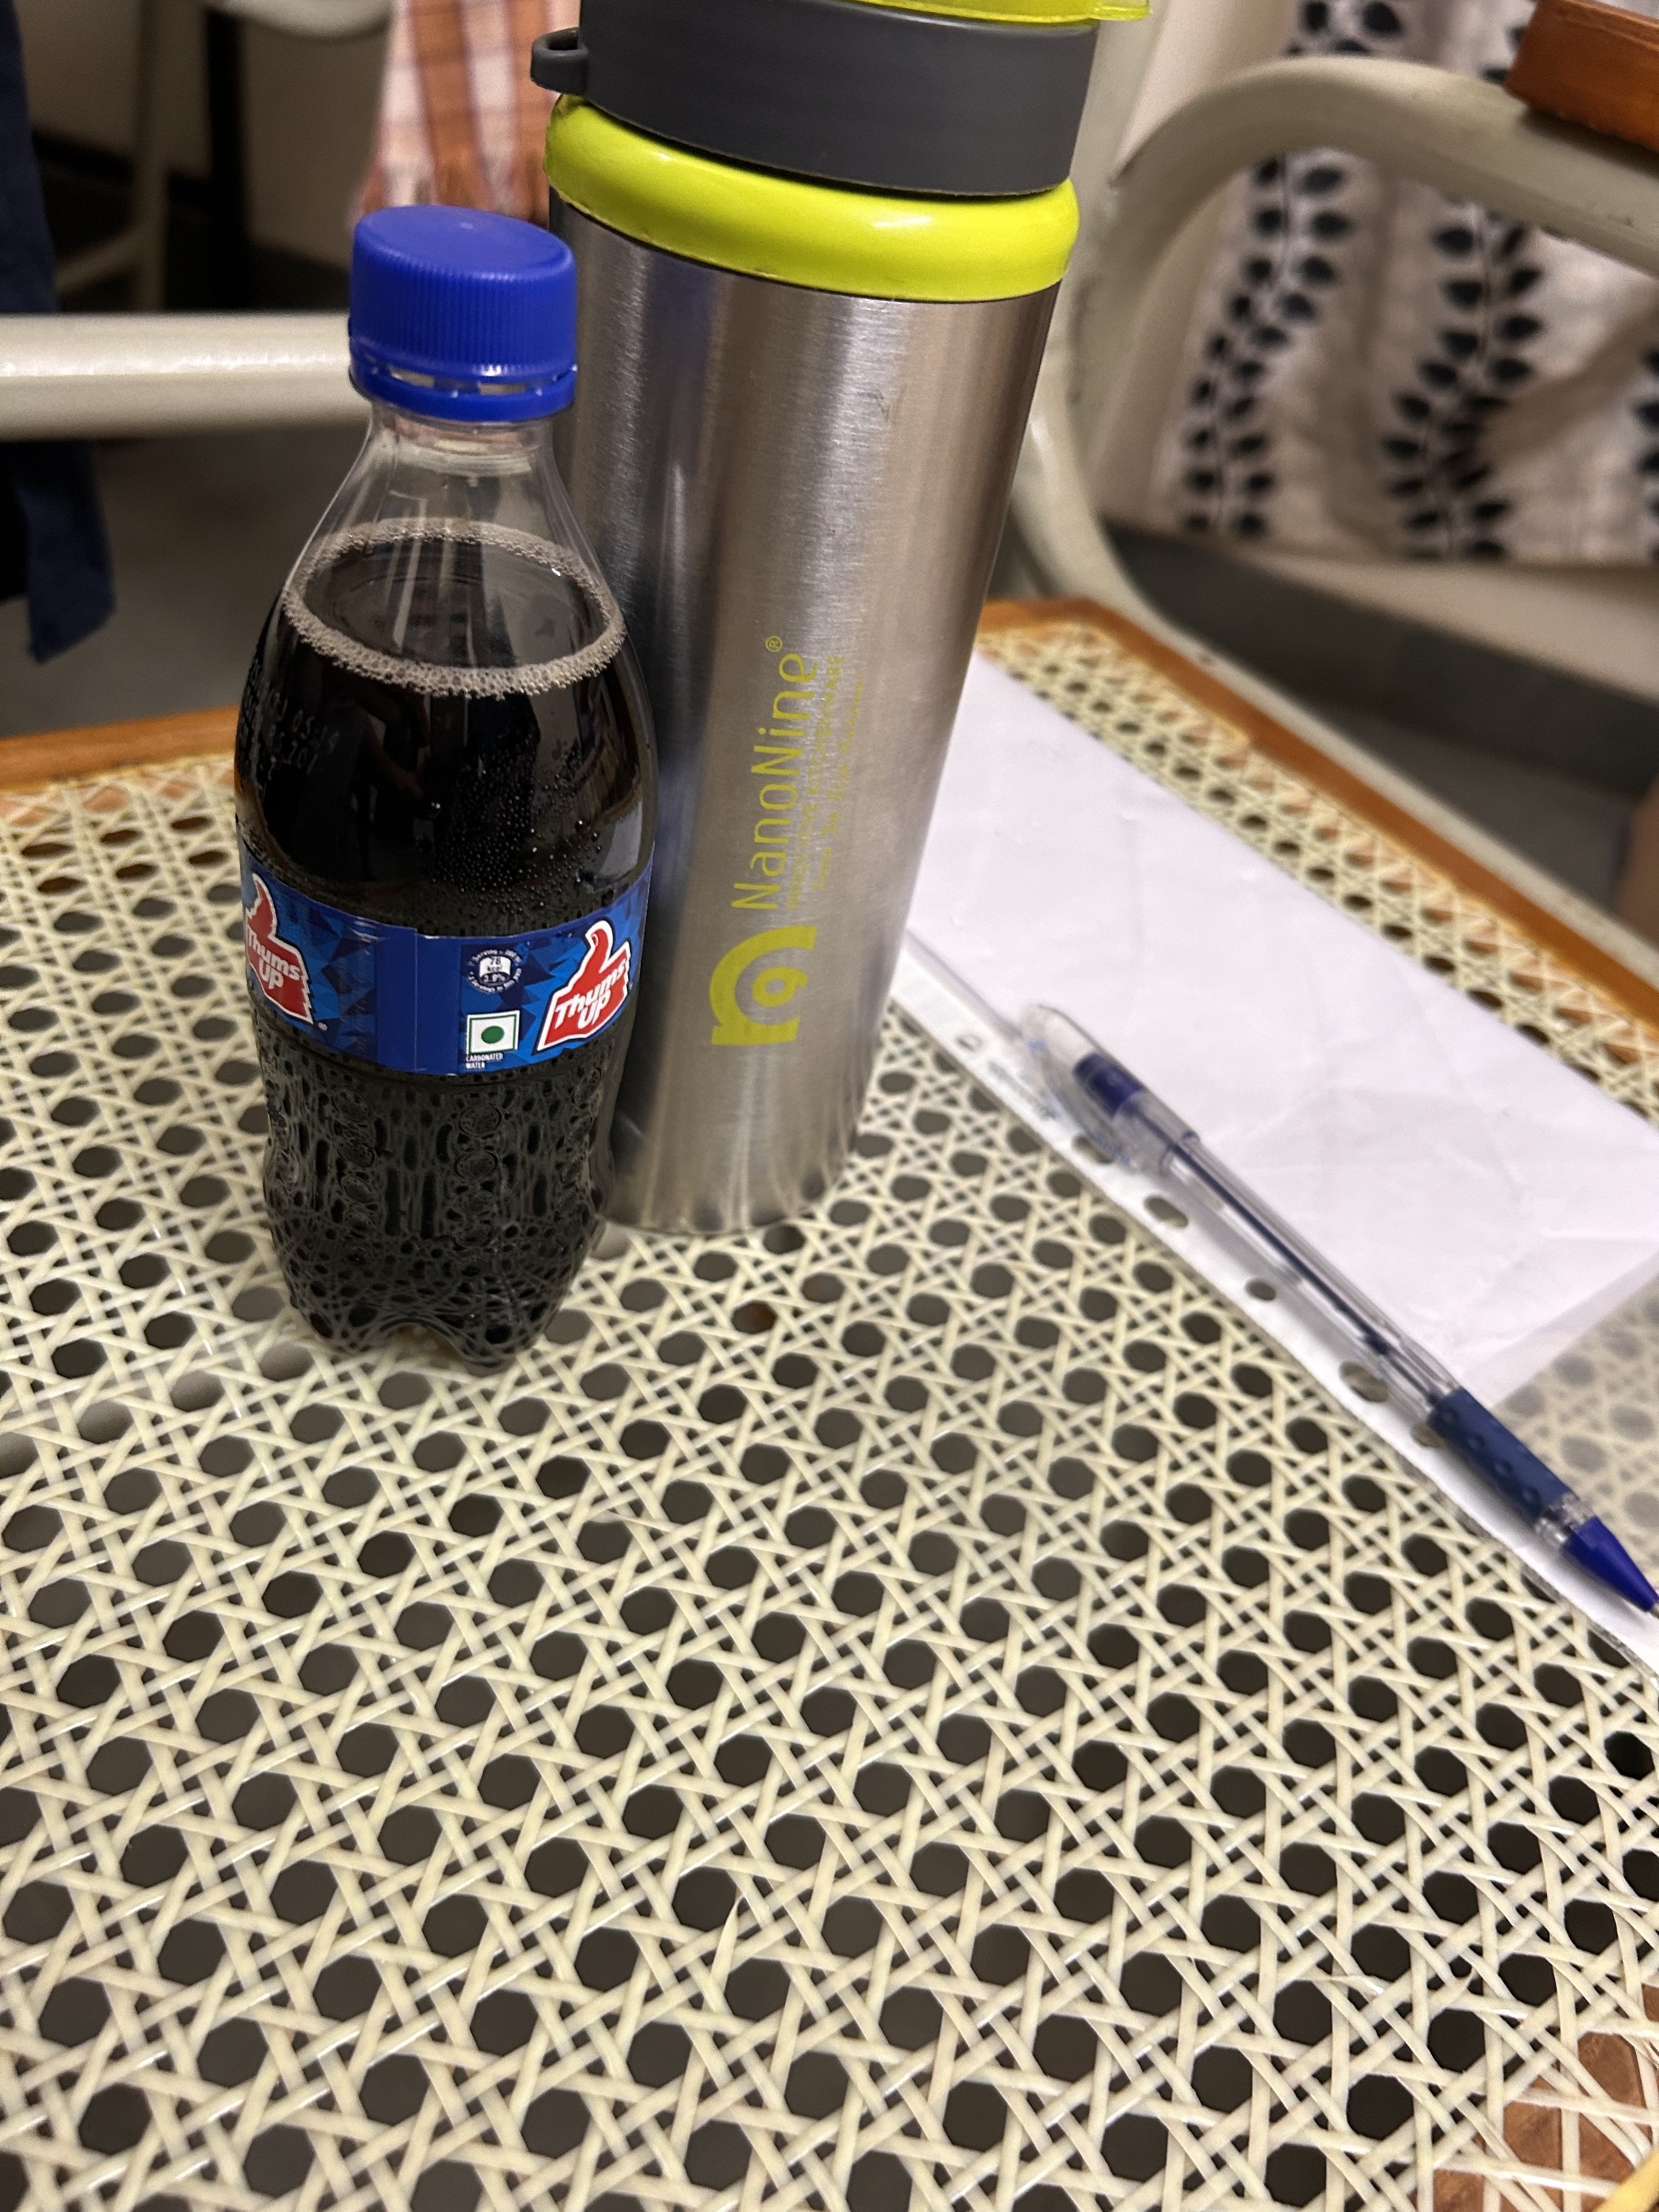unsealed: (340, 185, 592, 500)
